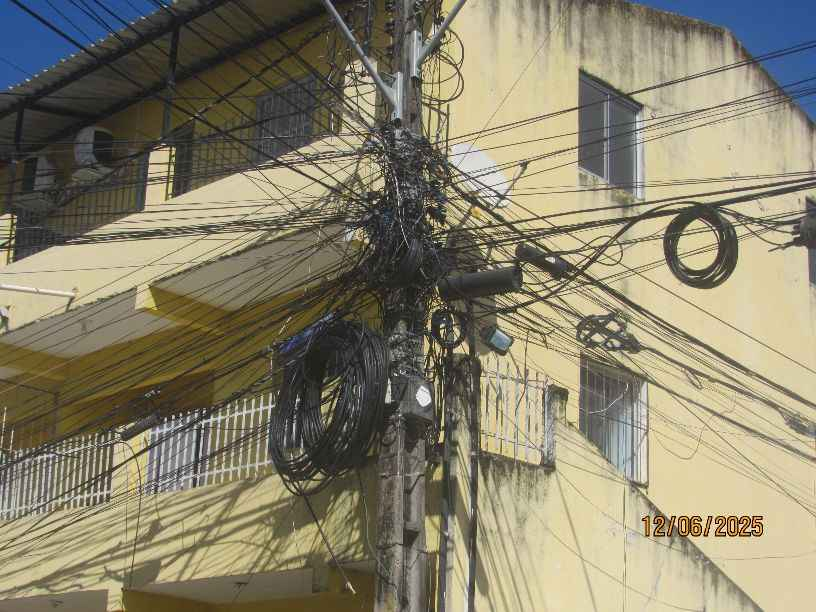caixa_emenda_fibra: (505, 233, 575, 281), (439, 267, 525, 306)
tronco_metalico: (270, 319, 388, 499)
